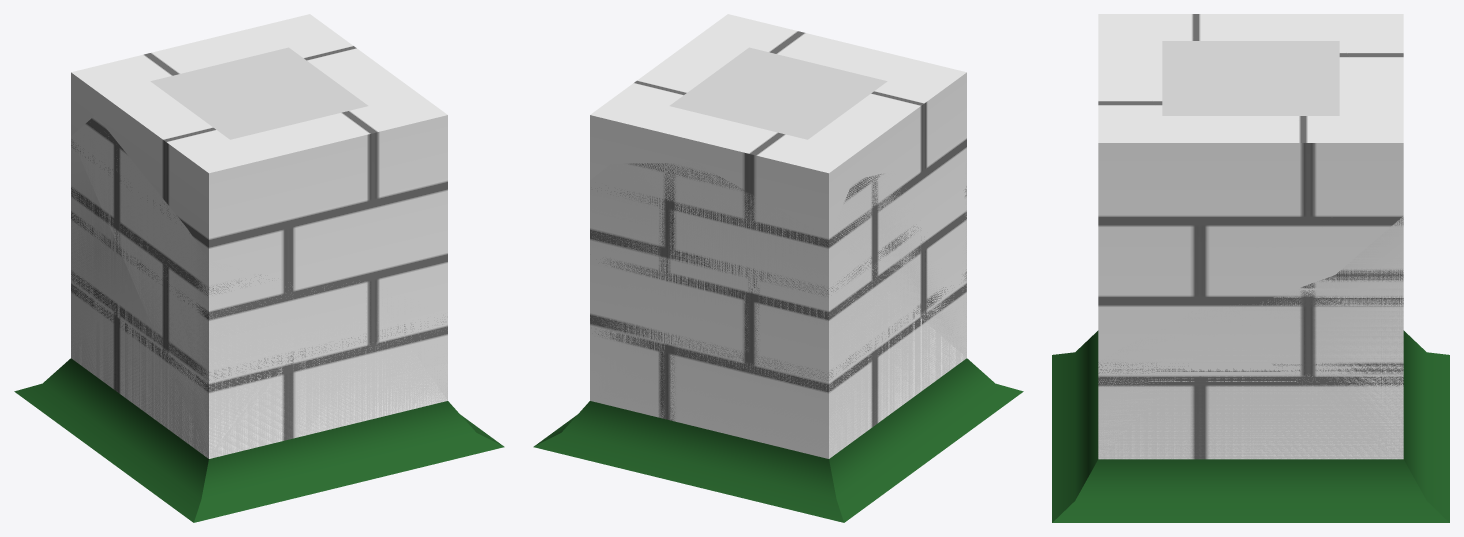
Rendered from SM_Brick.fbx.
3 views of the same model, side by side, from view 1: azimuth 30°, elevation 25°; view 2: azimuth 150°, elevation 25°; view 3: azimuth 270°, elevation 25° (orthographic). The views are drawn at different scales.
Parts seen in each view (by area): view 1: BrickCube, BrickCube_Broken; view 2: BrickCube, BrickCube_Broken; view 3: BrickCube, BrickCube_Broken.
Boxes of the visible parts, x1=… form: BrickCube: x1=14, y1=14, x2=504, y2=522; BrickCube_Broken: x1=71, y1=115, x2=447, y2=458; BrickCube: x1=533, y1=14, x2=1023, y2=522; BrickCube_Broken: x1=590, y1=159, x2=966, y2=458; BrickCube: x1=1052, y1=14, x2=1449, y2=522; BrickCube_Broken: x1=1098, y1=216, x2=1403, y2=459.
Bounding box in the file's own units: 1 × 1 × 1.
Materials: 3 (1 with a texture image).
